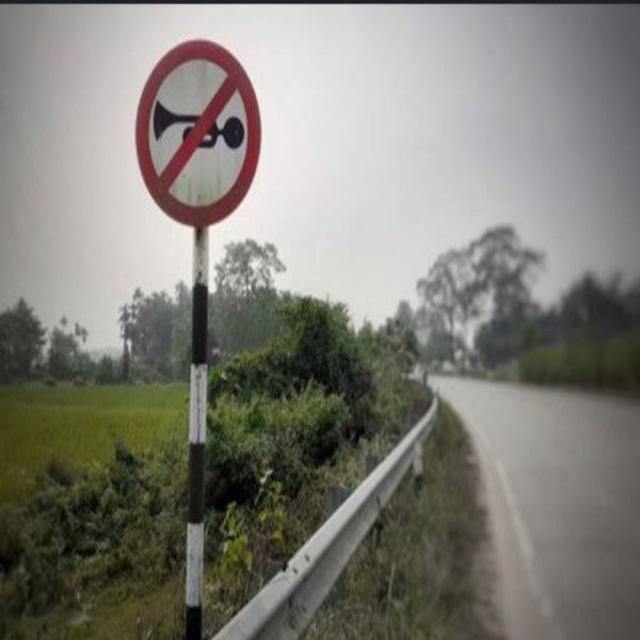horn prohibited: (128, 36, 275, 228)
